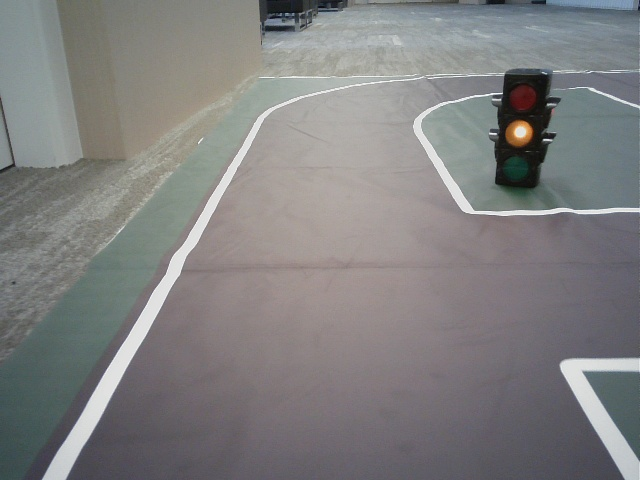yellow: (499, 83, 539, 184)
